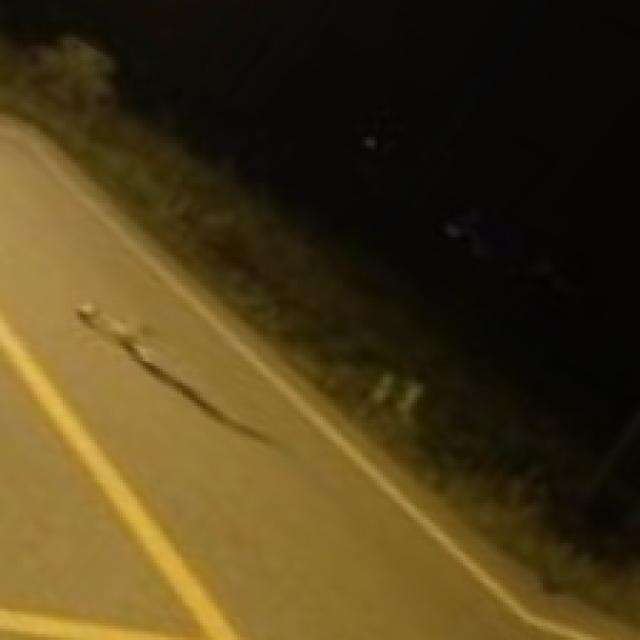king cobra: (0, 0, 637, 637), (74, 303, 283, 446)
